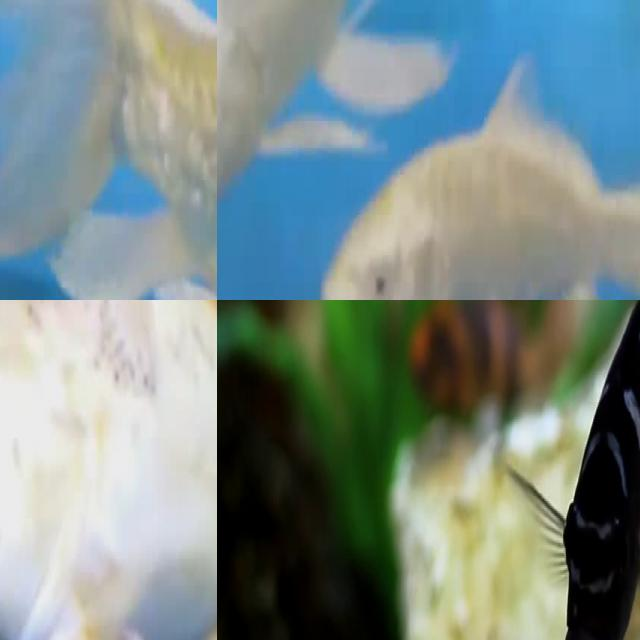fish: (0, 300, 217, 640), (0, 0, 217, 300), (217, 0, 436, 265)
